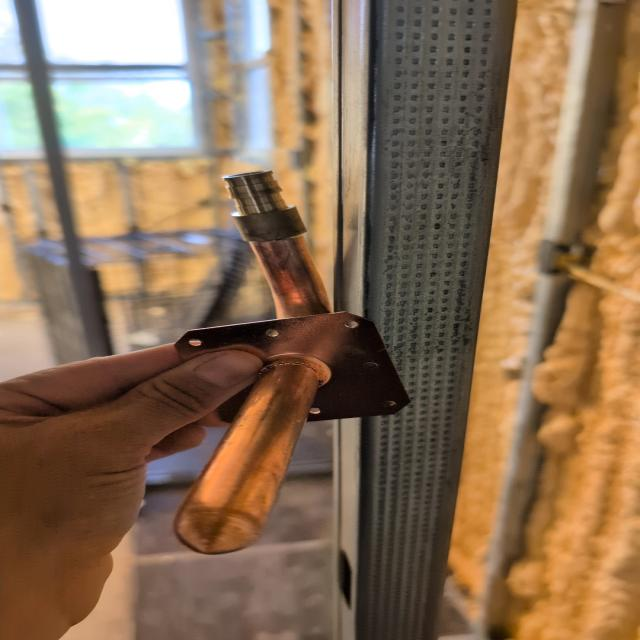wall_flange: (148, 147, 458, 595)
